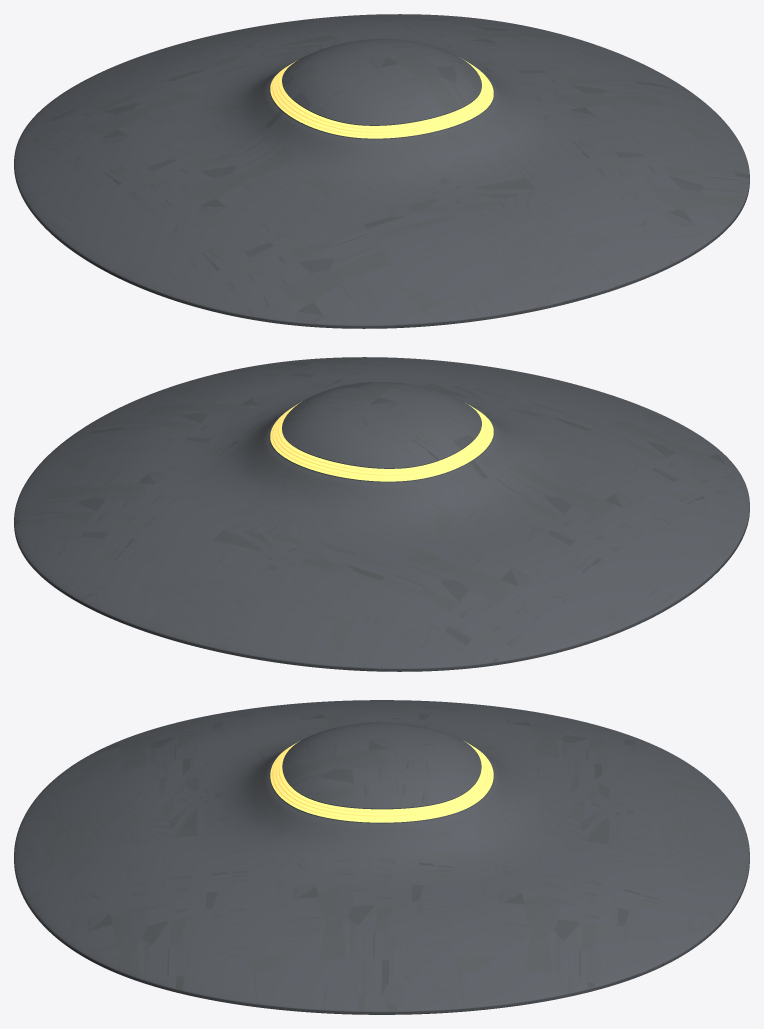
The model's file is ufo_flying_saucer_spaceship_ovni-transformed.glb.
3 renders of one model, top to bottom at view 1: azimuth 30°, elevation 25°; view 2: azimuth 150°, elevation 25°; view 3: azimuth 270°, elevation 25°, orthographic. The views are drawn at different scales.
Visible parts, largest first — view 1: UFO_UFO Metal_0, UFO_Ventanilla_0; view 2: UFO_UFO Metal_0, UFO_Ventanilla_0; view 3: UFO_UFO Metal_0, UFO_Ventanilla_0.
Boxes of the visible parts, x1,y1,x2,y2 form: UFO_UFO Metal_0: (14, 14, 749, 328); UFO_Ventanilla_0: (270, 59, 493, 138); UFO_UFO Metal_0: (14, 357, 749, 671); UFO_Ventanilla_0: (270, 402, 493, 481); UFO_UFO Metal_0: (14, 700, 749, 1014); UFO_Ventanilla_0: (270, 741, 493, 822).
Bounding box in the file's own units: 9.37 × 2.49 × 9.37.
3 materials, 2 textured.
